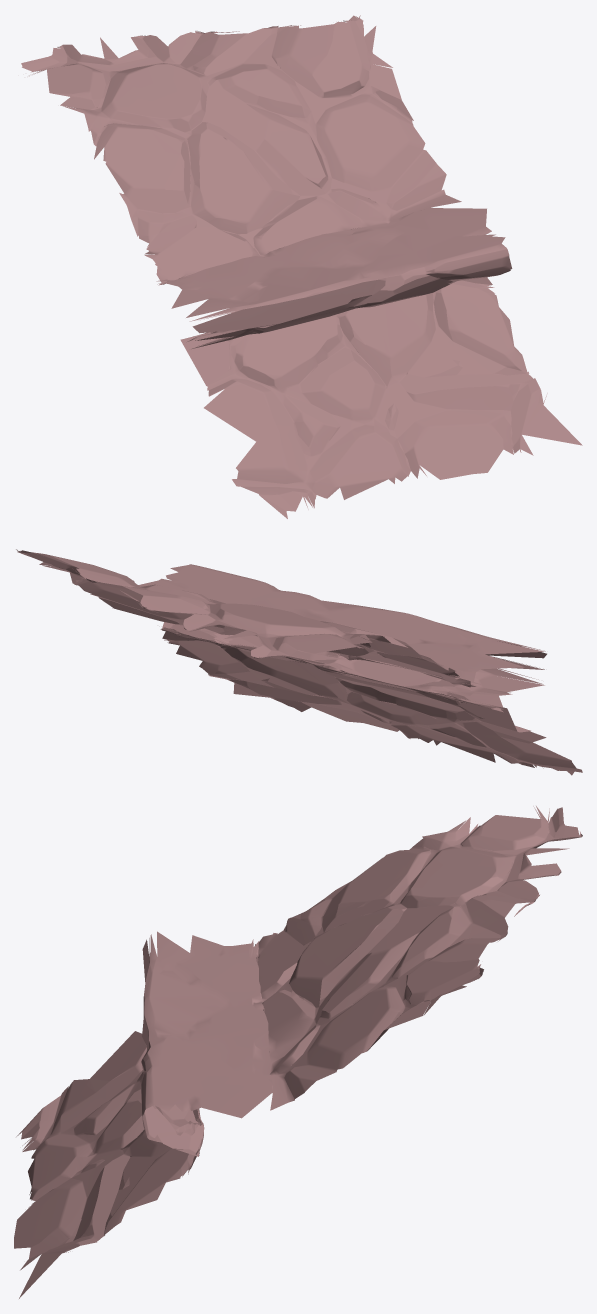
The model's file is plateau.fbx_Rock_Plateau_023LODs.fbx.
The picture shows the model from 3 angles, top to bottom: view 1: azimuth 30°, elevation 25°; view 2: azimuth 150°, elevation 25°; view 3: azimuth 270°, elevation 25°; orthographic projection. The views are drawn at different scales.
Parts seen in each view (by area): view 1: Rock Plateau.023_LOD0; view 2: Rock Plateau.023_LOD0; view 3: Rock Plateau.023_LOD0.
Boxes of the visible parts, left/top/right/bottom form: Rock Plateau.023_LOD0: left=21, top=15, right=582, bottom=518; Rock Plateau.023_LOD0: left=16, top=549, right=582, bottom=775; Rock Plateau.023_LOD0: left=14, top=806, right=582, bottom=1298.
Size of what is drawn, in the model's own units: 3821 by 3091 by 4927.
